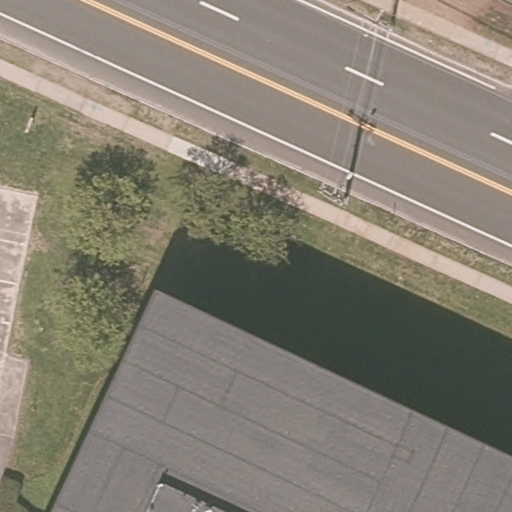DT: (314, 185, 347, 206)
